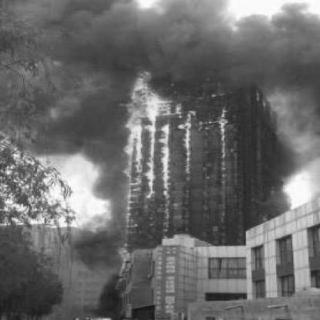Fire: (108, 65, 236, 257)
Smoke: (15, 3, 318, 153)
